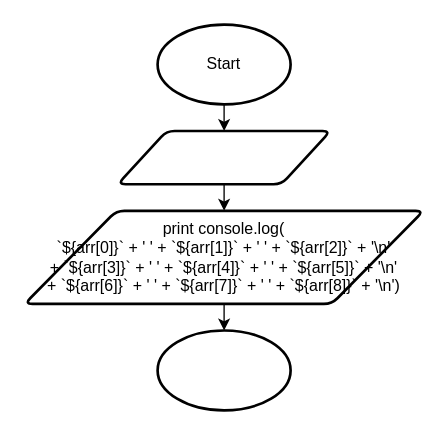
This 447x434 diagram has some shape labels left out. The shapes that lost their labels are listed below. From the top down, each one's centre as x and y in pixels, then its label:
(x=223, y=157): get arr: number[ ]
(x=223, y=370): Stop
